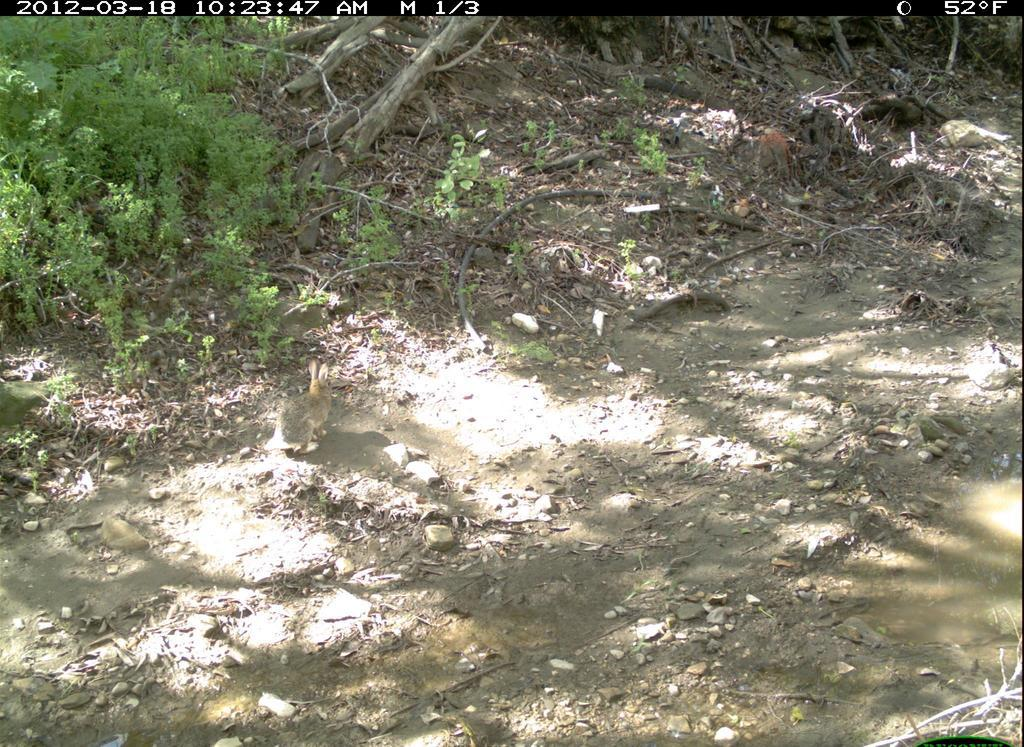rabbit: (262, 355, 341, 459)
